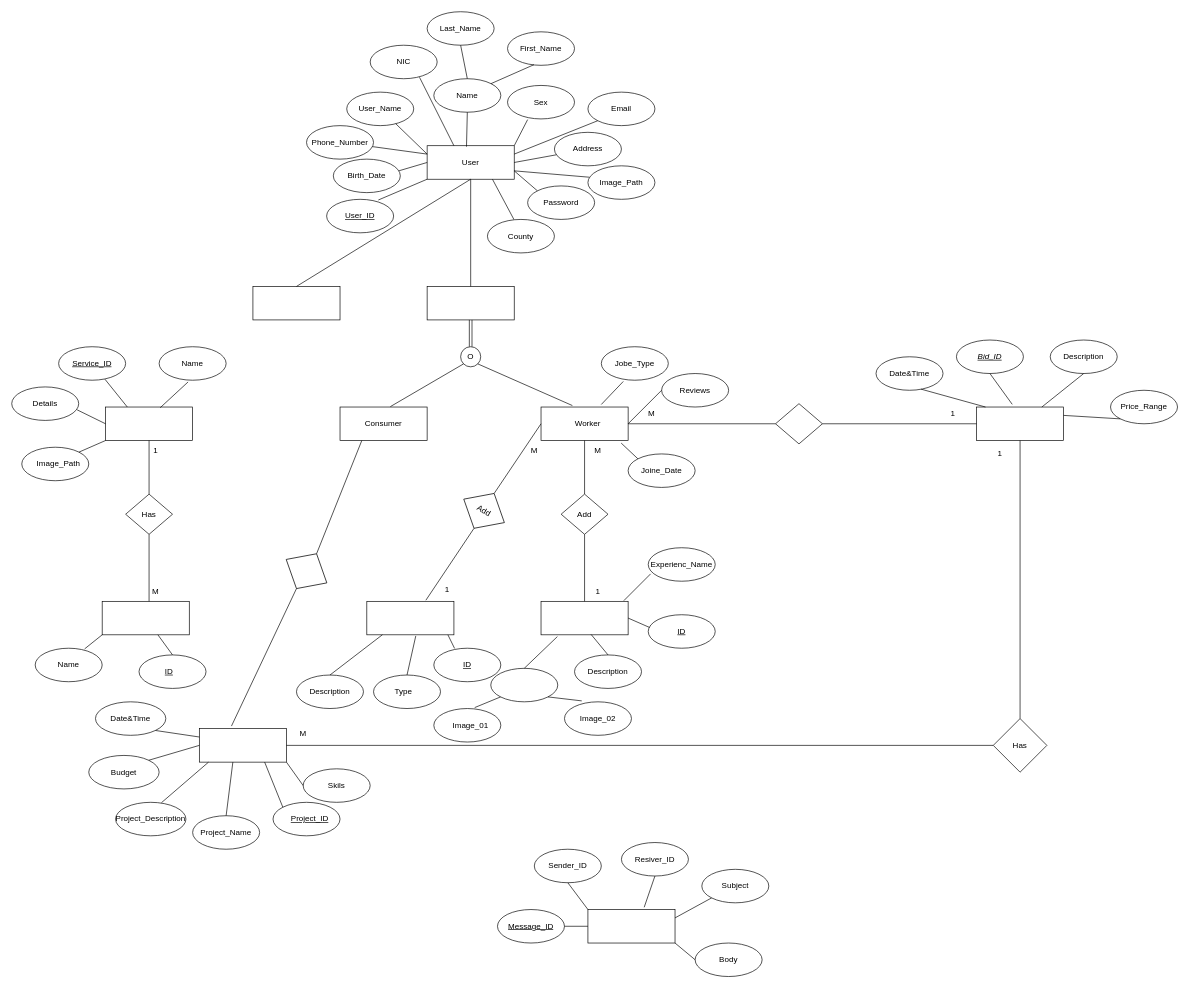
Image size: 1189x988. Some labels were removed from this diagram. Here are the shapes that lost their labels. From the top down, the centre of each, then its label:
point 296,303: Admin
point 470,303: Customer
point 149,423: Service
point 798,423: Place
point 1020,423: Bid
point 306,570: Post
point 145,618: Category
point 410,618: Education
point 584,618: Experience
point 524,685: Image
point 242,745: Project
point 631,926: Message
